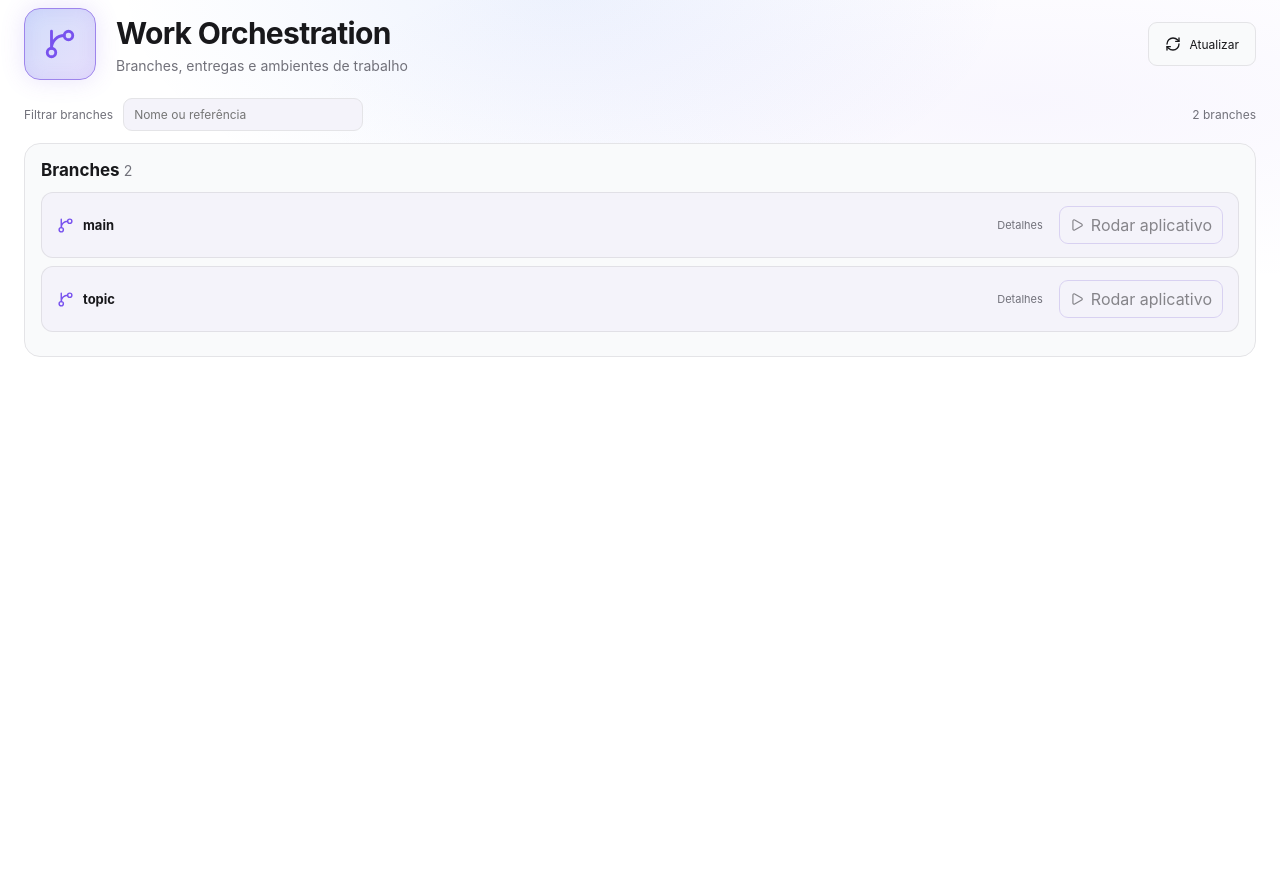
Test: keeps blockers visible and prevents destructive confirmation
What coordinates should you click on to do the following:
click the text "topic"
I would click on:
 (99, 299)
Its box is x1=83 y1=291 x2=115 y2=307.
(page scrolled)
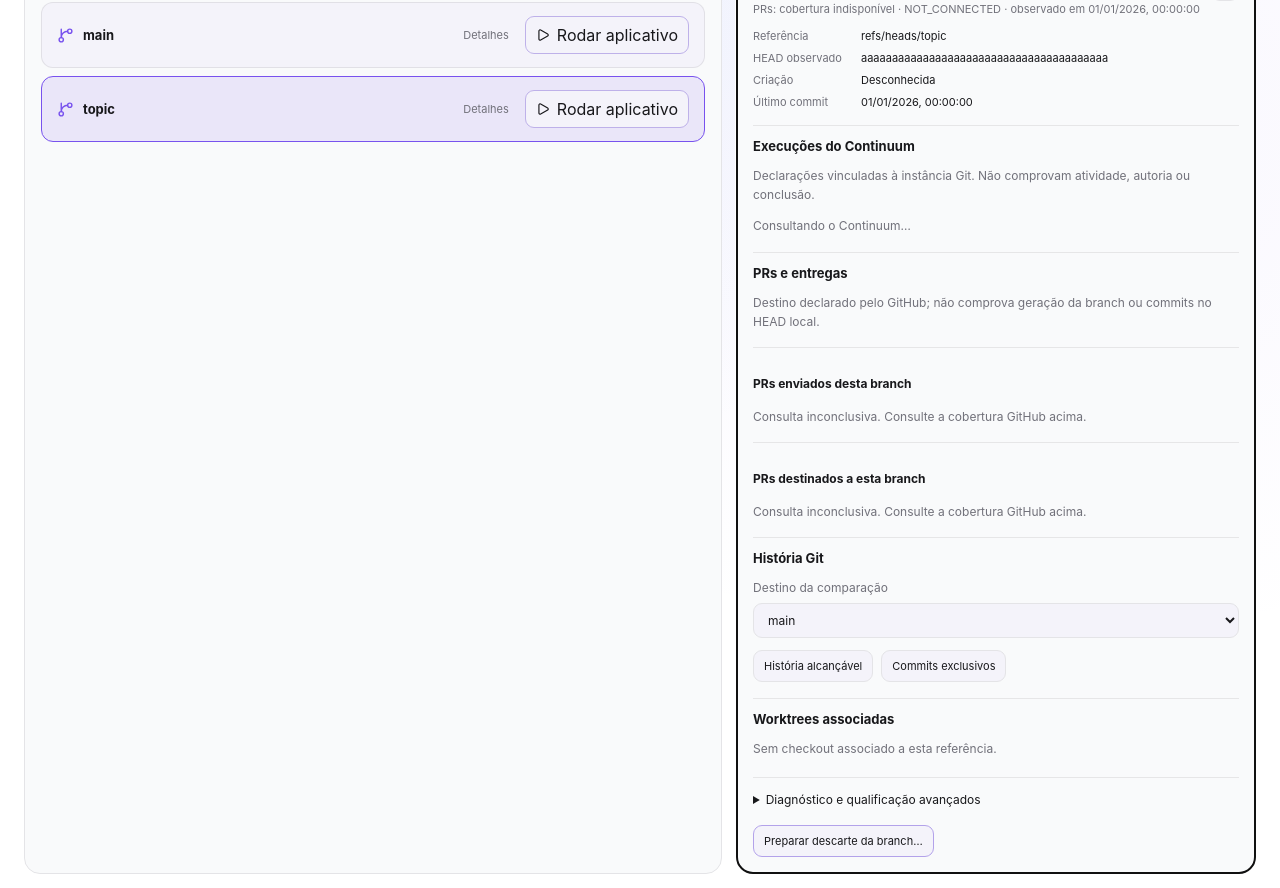
What coordinates should you click on to do the following:
click the button "Preparar descarte da branch…"
I would click on:
 (843, 840)
Its box is x1=753 y1=824 x2=934 y2=856.
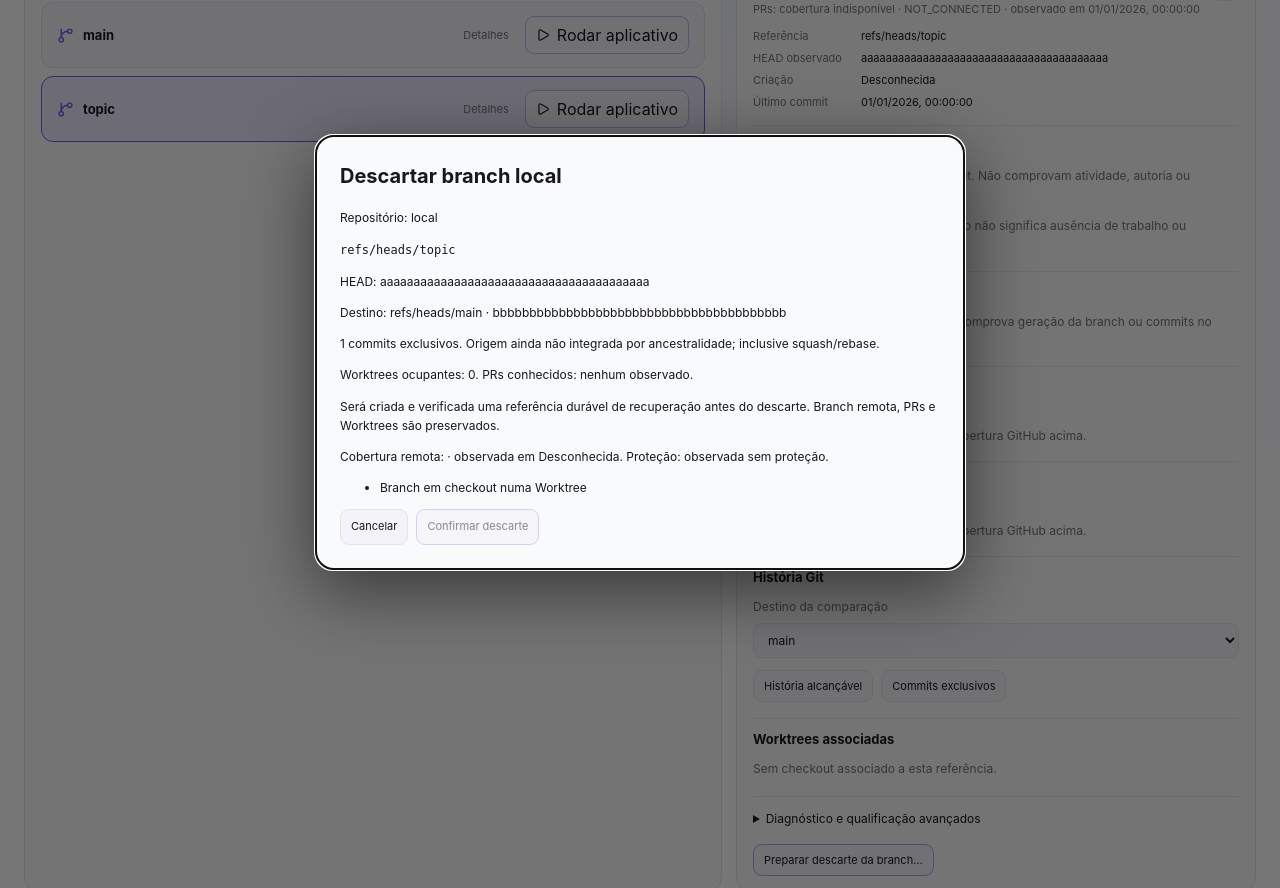
Check: the list item "Branch em checkout numa Worktree" is shown, box x1=380 y1=480 x2=587 y2=495
Check: the button "Confirmar descarte" is disabled, box x1=416 y1=509 x2=539 y2=545
